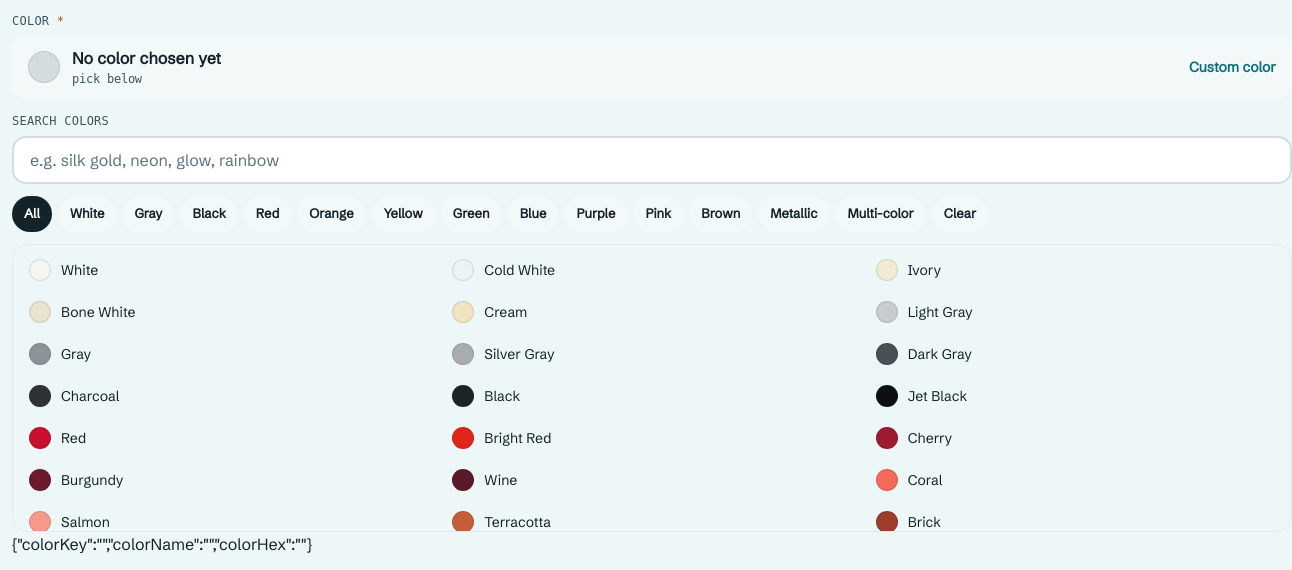
Test: ColorPicker › finds special finishes and picks one from the catalog
Type "fluorescent green" into the field labelled "Search colors". click: {"x": 652, "y": 160}
box: [30,148,1274,172]
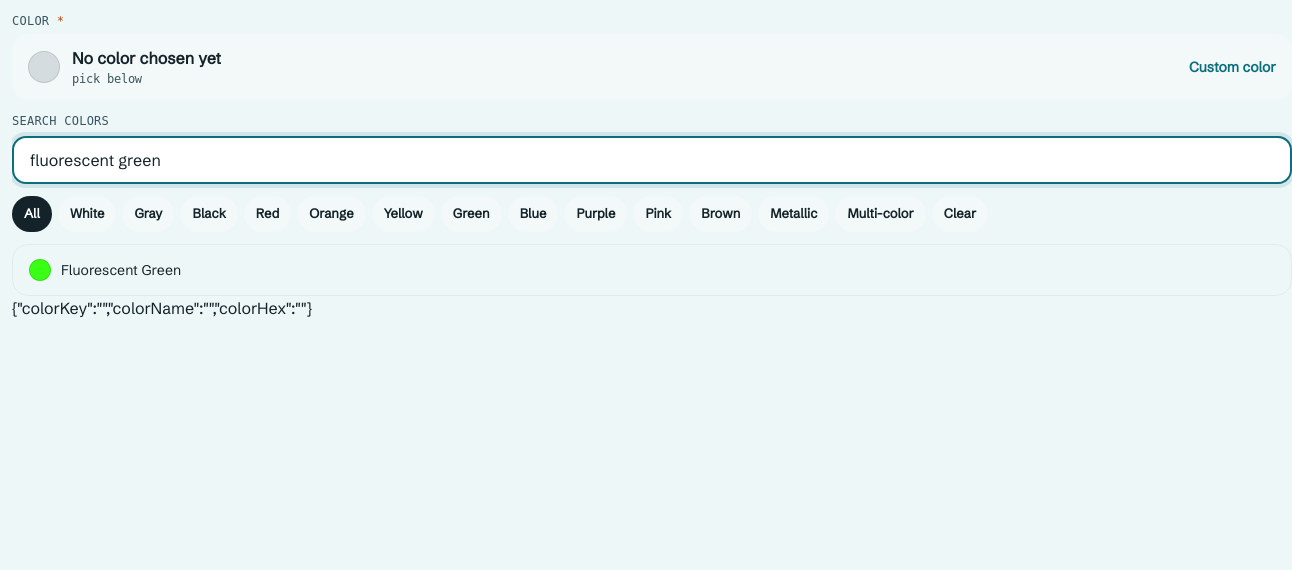
Click the button "Fluorescent Green". click: {"x": 121, "y": 270}
box: [19,251,438,289]
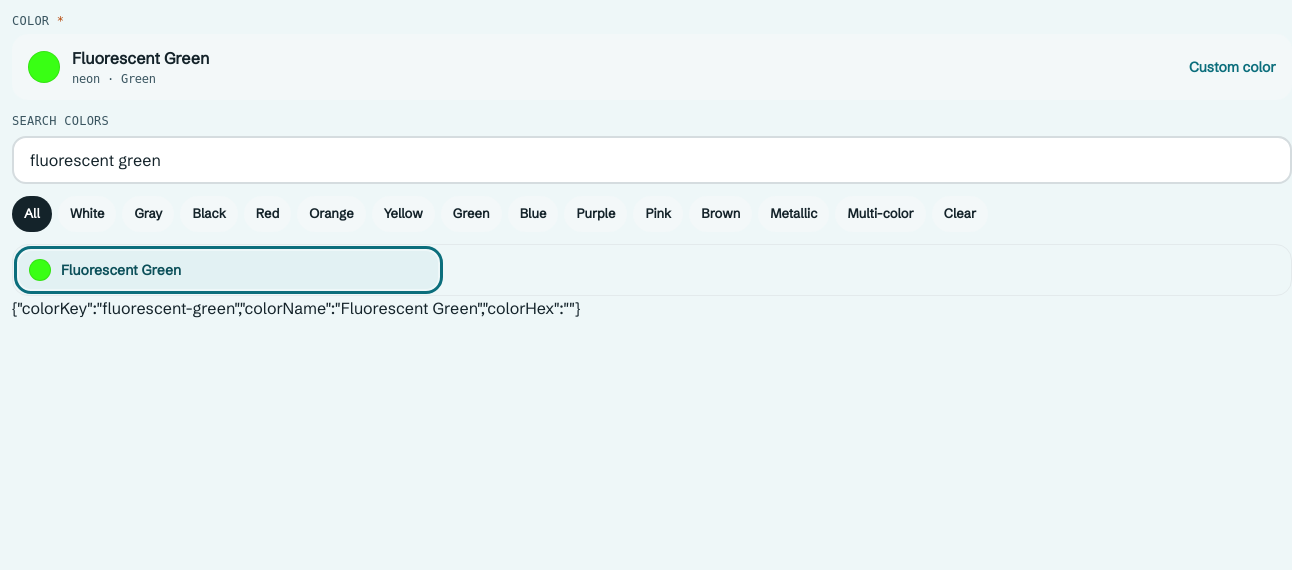
Check: the text with test id "value" shows "\"colorKey\":\"fluorescent-green\",\"colorName\":\"Fluorescent Green\"", box [12,298,580,318]
